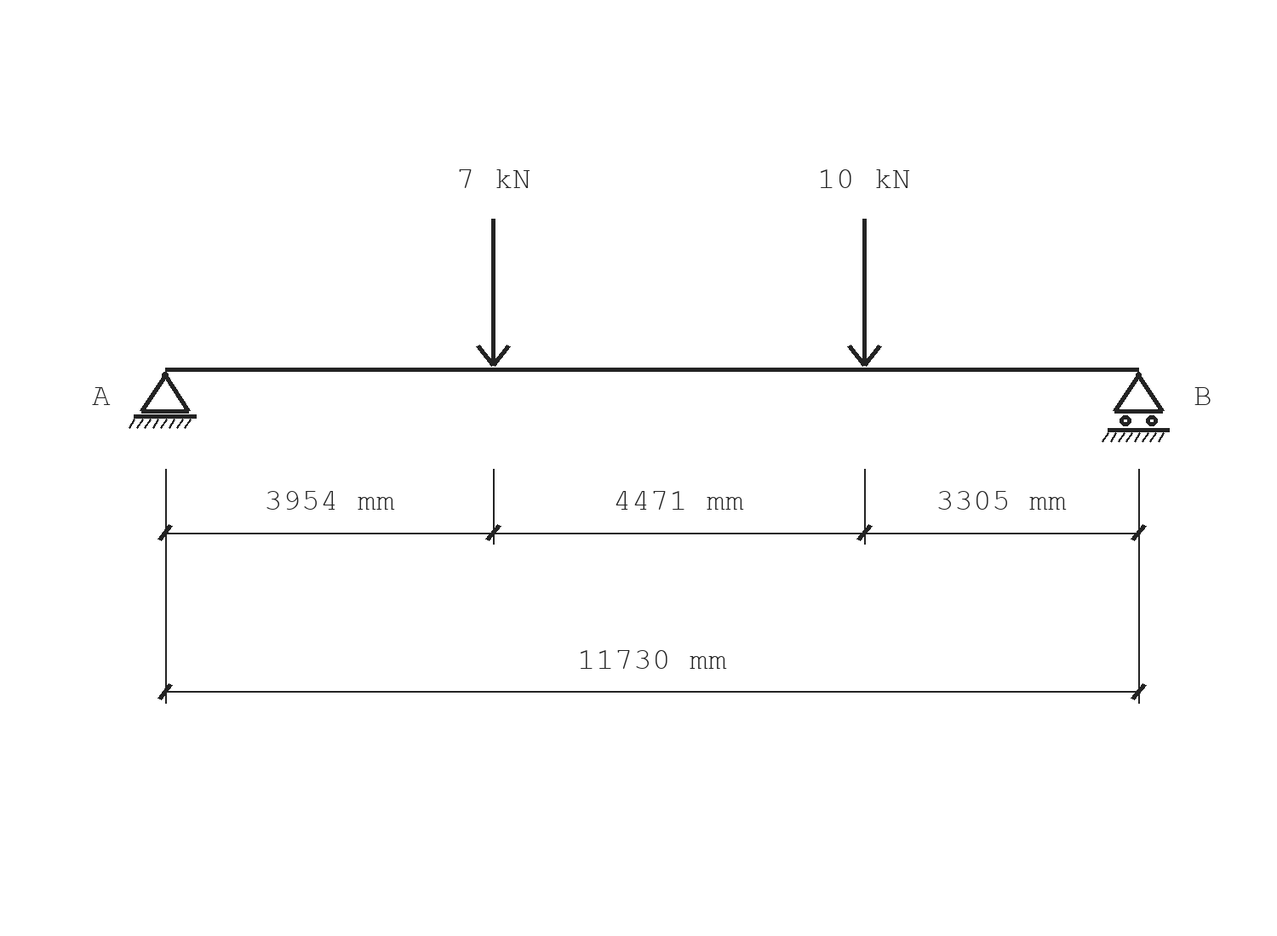pin_support: (129, 372, 197, 429)
point_load: (476, 219, 511, 367), (847, 219, 882, 367)
roller_support: (1102, 372, 1170, 442)
